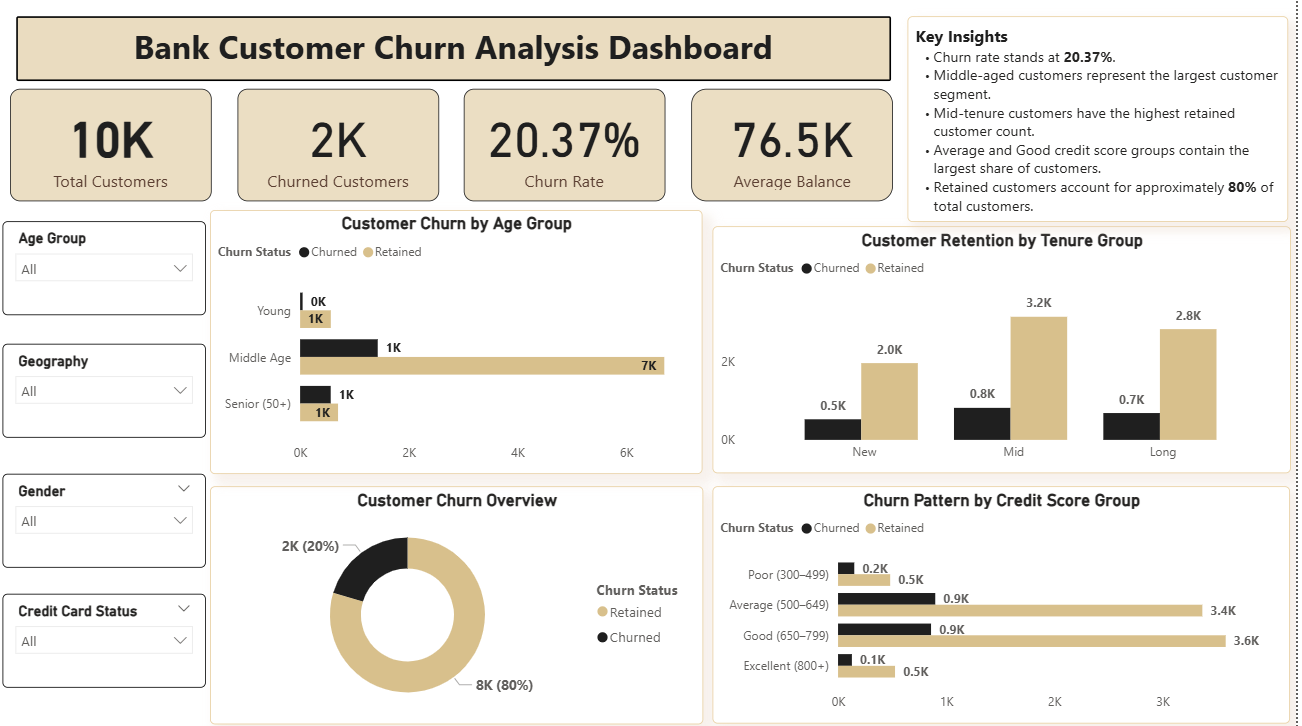

The page's visual inventory and layout, read from the dashboard file:
{"tool":"powerbi","page":{"name":"Page 1","canvas":[1280,720],"ordinal":0},"visuals":[{"type":"slicer","fields":{"Values":["Banking Customer Churn.Geography"]},"box":[1.9,339.4,201,93],"z":0},{"type":"slicer","fields":{"Values":["Banking Customer Churn.Gender"]},"box":[1.9,467.4,201,93],"z":1000},{"type":"slicer","fields":{"Values":["Banking Customer Churn.HasCrCard"]},"box":[2,586.9,201,93],"z":2000},{"type":"slicer","fields":{"Values":["Banking Customer Churn.Age Group"]},"box":[2,218.9,201,93],"z":3000},{"type":"textbox","box":[16,16,864,64],"z":4000},{"type":"card","fields":{"Values":["Banking Customer Churn.Total Customers"]},"box":[10.1,88.2,199,111],"z":5000},{"type":"card","fields":{"Values":["Banking Customer Churn.Churned Customers"]},"box":[234.1,88.2,199,111],"z":6000},{"type":"card","fields":{"Values":["Banking Customer Churn.Churn Rate"]},"box":[458.1,88.2,199,111],"z":7000},{"type":"card","fields":{"Values":["Avg(Banking Customer Churn.Balance)"]},"box":[682.1,88.2,199,111],"z":8000},{"type":"donutChart","title":" Customer Churn Overview","fields":{"Category":["Banking Customer Churn.Churn Status"],"Y":["CountNonNull(Banking Customer Churn.CustomerId)"]},"box":[208,480,487,235],"z":9000},{"type":"clusteredBarChart","title":" Customer Churn by Age Group ","fields":{"Y":["CountNonNull(Banking Customer Churn.CustomerId)"],"Category":["Banking Customer Churn.Age Group1"],"Series":["Banking Customer Churn.Churn Status"]},"box":[208,208,486,261],"z":10000},{"type":"clusteredColumnChart","title":"Customer Retention by Tenure Group","fields":{"Y":["CountNonNull(Banking Customer Churn.CustomerId)"],"Series":["Banking Customer Churn.Churn Status"],"Category":["Banking Customer Churn.Tenure Group"]},"box":[704,224,571,244],"z":11000},{"type":"clusteredBarChart","title":"Churn Pattern by Credit Score Group","fields":{"Category":["Banking Customer Churn.Credit Score Group"],"Series":["Banking Customer Churn.Churn Status"],"Y":["CountNonNull(Banking Customer Churn.CustomerId)"]},"box":[704,480,570,234],"z":12000},{"type":"textbox","box":[896,16,376,203],"z":13000}]}

Visuals, with their boxes in screenshot pixels (x1, y1, x2, y2), scaled from the page's 1280x720 canvas onto the 1302x726 screenshot:
slicer - Banking Customer Churn.Geography: pyautogui.locateOnScreen(2, 342, 206, 436)
slicer - Banking Customer Churn.Gender: pyautogui.locateOnScreen(2, 471, 206, 565)
slicer - Banking Customer Churn.HasCrCard: pyautogui.locateOnScreen(2, 592, 206, 686)
slicer - Banking Customer Churn.Age Group: pyautogui.locateOnScreen(2, 221, 206, 314)
textbox: pyautogui.locateOnScreen(16, 16, 895, 81)
card - Banking Customer Churn.Total Customers: pyautogui.locateOnScreen(10, 89, 213, 201)
card - Banking Customer Churn.Churned Customers: pyautogui.locateOnScreen(238, 89, 441, 201)
card - Banking Customer Churn.Churn Rate: pyautogui.locateOnScreen(466, 89, 668, 201)
card - Avg(Banking Customer Churn.Balance): pyautogui.locateOnScreen(694, 89, 896, 201)
" Customer Churn Overview" donutChart: pyautogui.locateOnScreen(212, 484, 707, 721)
" Customer Churn by Age Group " clusteredBarChart: pyautogui.locateOnScreen(212, 210, 706, 473)
"Customer Retention by Tenure Group" clusteredColumnChart: pyautogui.locateOnScreen(716, 226, 1297, 472)
"Churn Pattern by Credit Score Group" clusteredBarChart: pyautogui.locateOnScreen(716, 484, 1296, 720)
textbox: pyautogui.locateOnScreen(911, 16, 1294, 221)
